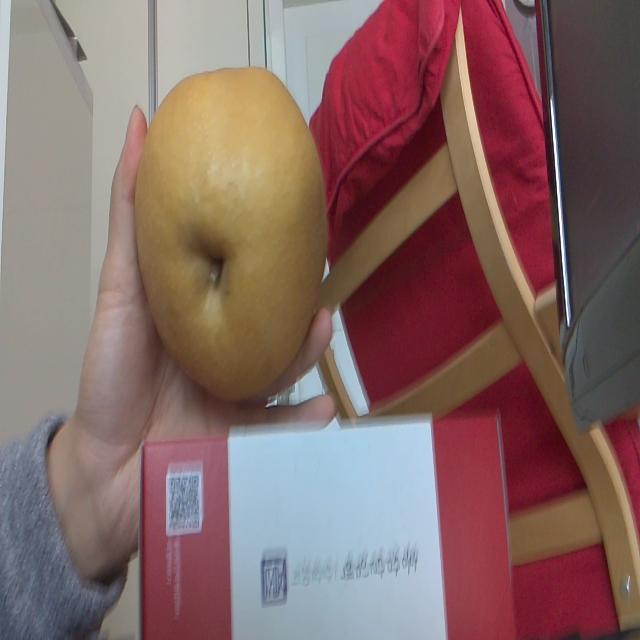pear: (136, 64, 327, 398)
